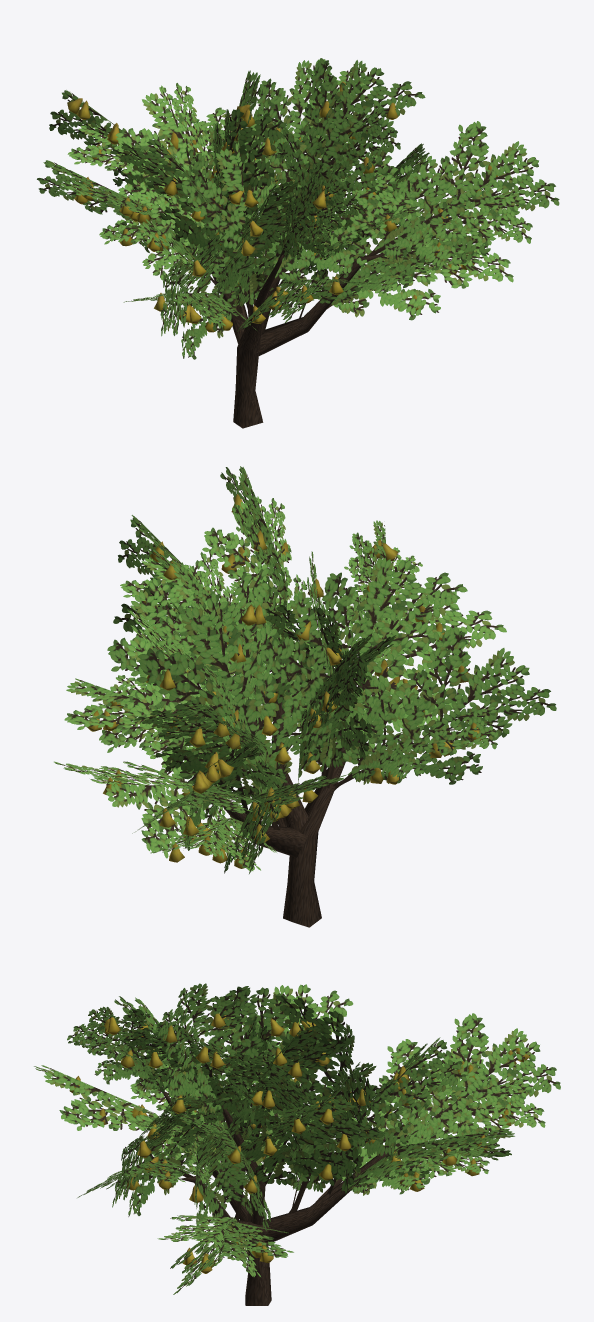
The model's file is Pear01.fbx.
3 renders of one model, top to bottom at view 1: azimuth 30°, elevation 25°; view 2: azimuth 150°, elevation 25°; view 3: azimuth 270°, elevation 25°, orthographic. The views are drawn at different scales.
Parts seen in each view (by area): view 1: Pear01; view 2: Pear01; view 3: Pear01.
Part boxes in pixels (bbox=[...]): Pear01: bbox=[37, 58, 559, 428]; Pear01: bbox=[54, 466, 556, 927]; Pear01: bbox=[34, 983, 560, 1305].
Size of the model in its own units: 865 by 753 by 994.
